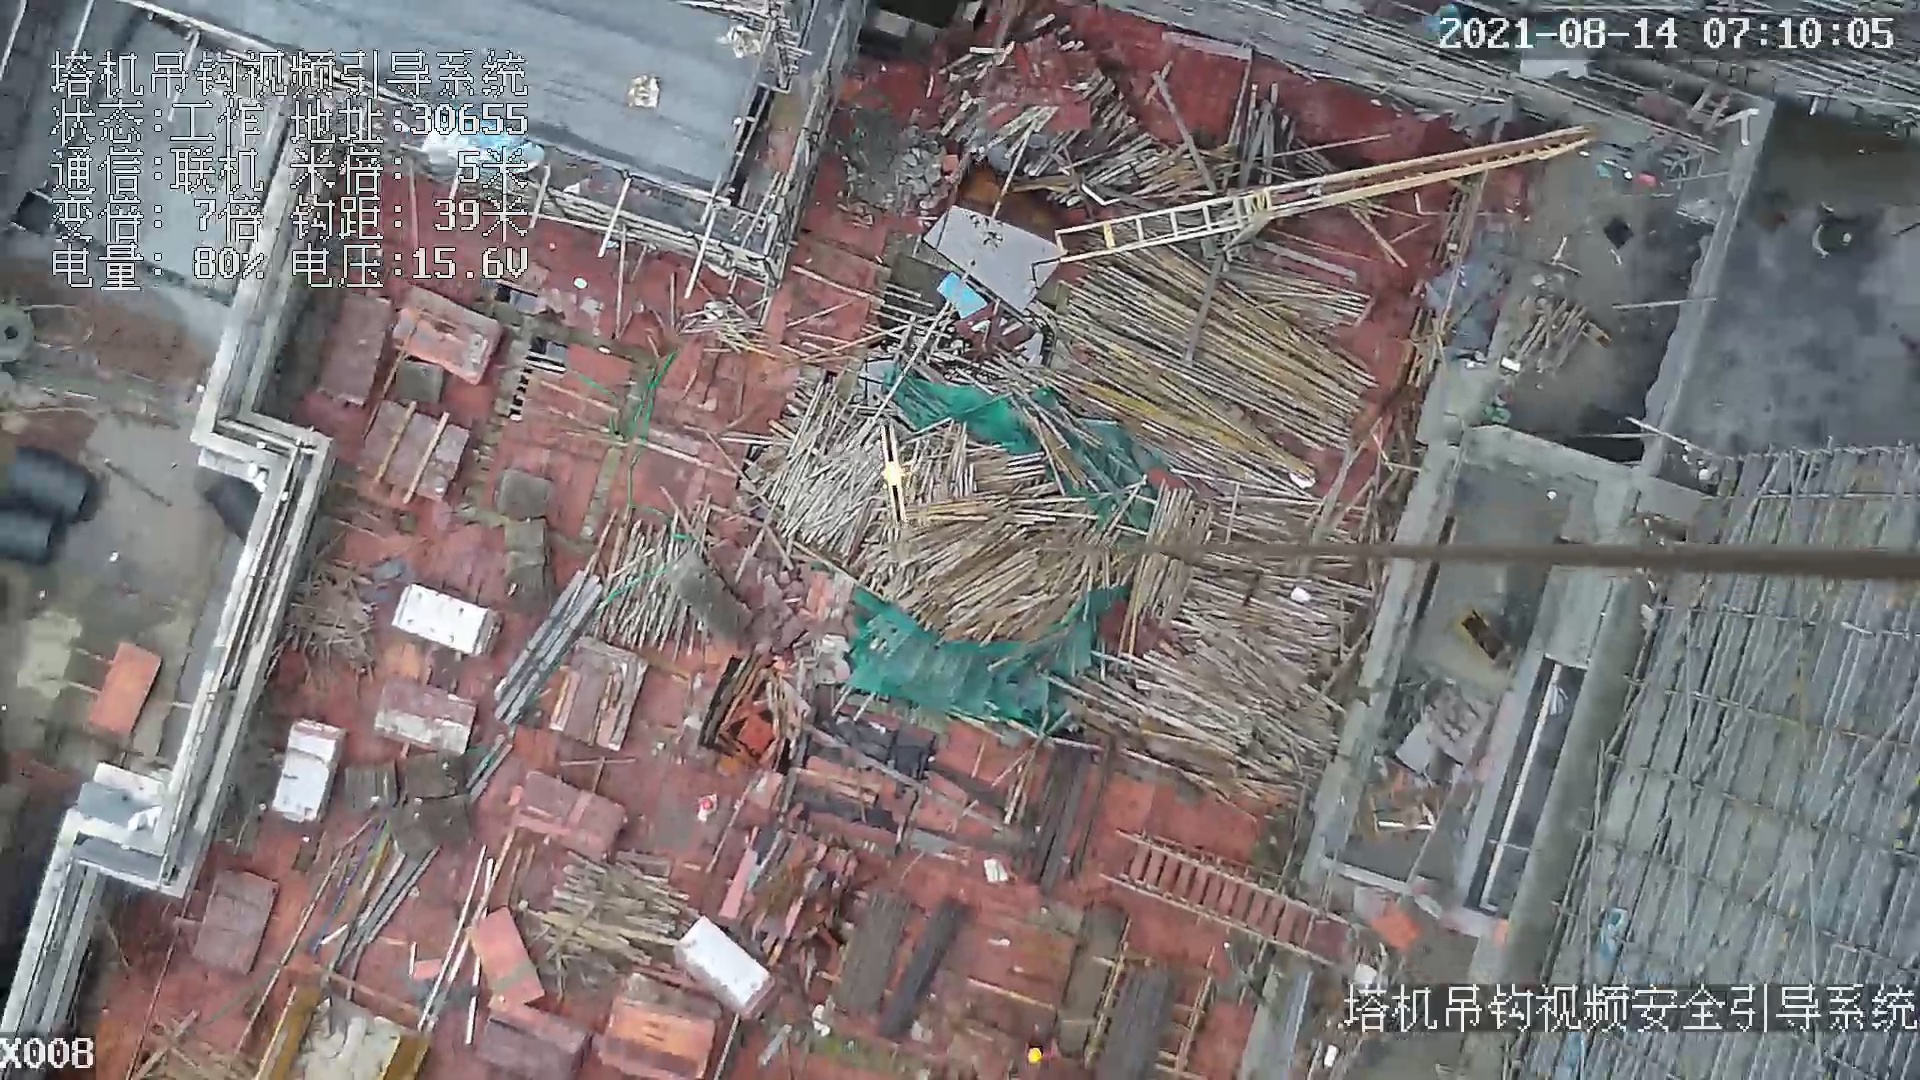helmet: (703, 799, 713, 810)
hook: (874, 414, 914, 526)
person: (697, 792, 723, 818)
